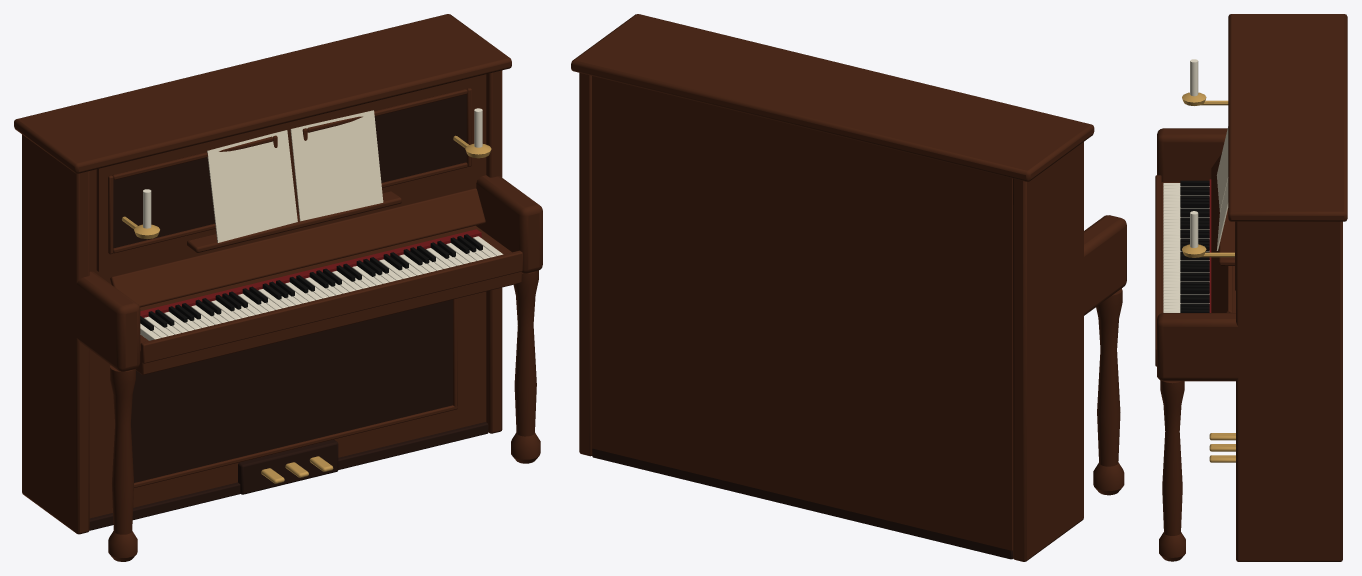
File: piano.glb
The picture shows the model from 3 angles, left to right: view 1: azimuth 30°, elevation 25°; view 2: azimuth 150°, elevation 25°; view 3: azimuth 270°, elevation 25°; orthographic projection. The views are drawn at different scales.
Parts seen in each view (by area): view 1: piano_wood, piano_wood_dark, piano_paper, piano_ivory, piano_ebony, piano_felt, piano_brass; view 2: piano_wood, piano_wood_dark; view 3: piano_wood, piano_ebony, piano_ivory, piano_brass, piano_paper, piano_felt.
Part boxes in pixels (x1=…): piano_wood: x1=14, y1=14, x2=542, y2=561; piano_wood_dark: x1=89, y1=94, x2=488, y2=530; piano_paper: x1=207, y1=110, x2=383, y2=242; piano_ivory: x1=140, y1=108, x2=503, y2=340; piano_ebony: x1=140, y1=234, x2=482, y2=330; piano_felt: x1=140, y1=229, x2=481, y2=317; piano_brass: x1=122, y1=135, x2=491, y2=483; piano_wood: x1=571, y1=14, x2=1126, y2=561; piano_wood_dark: x1=592, y1=448, x2=1013, y2=559; piano_wood: x1=1155, y1=14, x2=1347, y2=561; piano_ebony: x1=1180, y1=180, x2=1209, y2=312; piano_ivory: x1=1163, y1=59, x2=1209, y2=312; piano_brass: x1=1182, y1=92, x2=1235, y2=462; piano_paper: x1=1216, y1=126, x2=1228, y2=250; piano_felt: x1=1209, y1=179, x2=1211, y2=312.
Size of the model in its own units: 1.53 by 1.26 by 0.6199.
